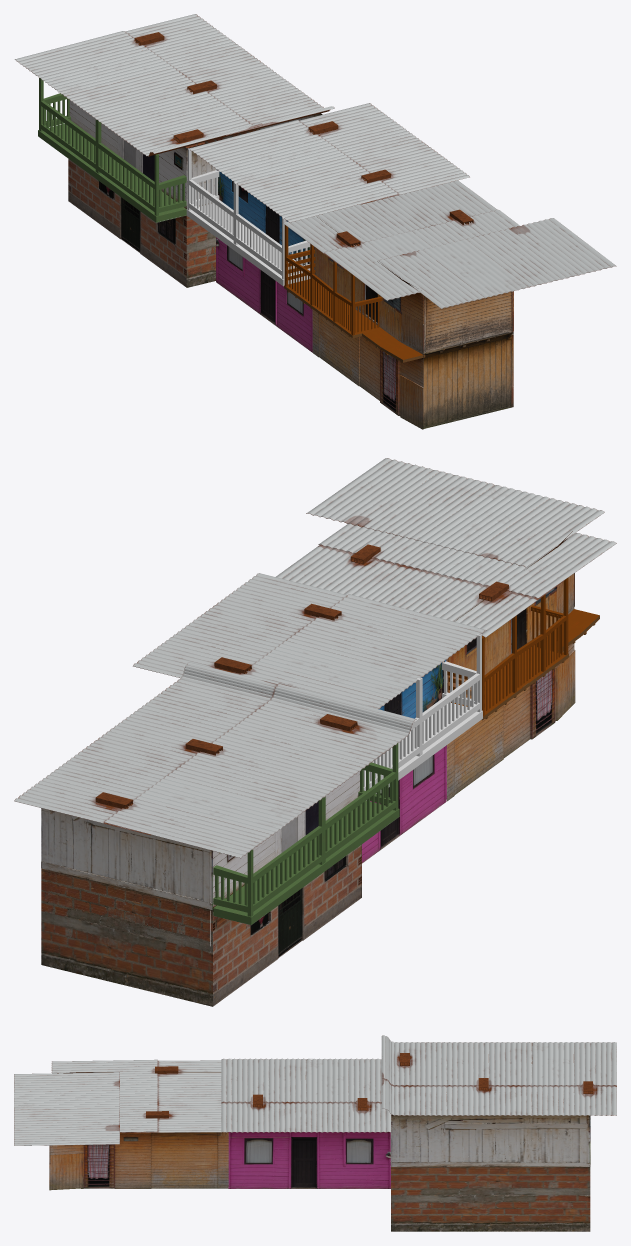
The model's file is casa_izquierda_08-10.fbx.
3 renders of one model, top to bottom at view 1: azimuth 30°, elevation 25°; view 2: azimuth 150°, elevation 25°; view 3: azimuth 270°, elevation 25°, orthographic. The views are drawn at different scales.
Parts seen in each view (by area): view 1: Techo 08, Techo 09.001, Techo 09, casa_izquierda_10B.001, casa_izquierda_10A, casa_izquierda_08A.001, casa_izquierda_08A.002, casa_izquierda_09.001, casa_izquierda_08A.003, balcon casa izquierda 10, casa_izquierda_08B.002; view 2: Techo 08, Techo 09.001, casa_izquierda_08B.001, Techo 09, casa_izquierda_08A.001, casa_izquierda_10A, casa_izquierda_08A.002, balcon casa izquierda 10, casa_izquierda_08A.003, casa_izquierda_09.001; view 3: casa_izquierda_08B.003, Techo 08, Techo 09.001, Techo 09, casa_izquierda_10A, casa_izquierda_09.001.
Part boxes in pixels (x1=…): Techo 08: x1=14, y1=14, x2=334, y2=156; Techo 09.001: x1=283, y1=180, x2=616, y2=308; Techo 09: x1=189, y1=103, x2=469, y2=222; casa_izquierda_10B.001: x1=423, y1=291, x2=513, y2=428; casa_izquierda_10A: x1=312, y1=217, x2=423, y2=429; casa_izquierda_08A.001: x1=68, y1=100, x2=186, y2=287; casa_izquierda_08A.002: x1=38, y1=78, x2=186, y2=222; casa_izquierda_09.001: x1=216, y1=169, x2=312, y2=352; casa_izquierda_08A.003: x1=186, y1=148, x2=310, y2=286; balcon casa izquierda 10: x1=284, y1=225, x2=425, y2=362; casa_izquierda_08B.002: x1=186, y1=141, x2=216, y2=287; Techo 08: x1=14, y1=662, x2=416, y2=858; Techo 09.001: x1=276, y1=458, x2=616, y2=637; casa_izquierda_08B.001: x1=41, y1=808, x2=212, y2=1006; Techo 09: x1=133, y1=573, x2=486, y2=708; casa_izquierda_08A.001: x1=213, y1=771, x2=361, y2=1006; casa_izquierda_10A: x1=446, y1=531, x2=575, y2=801; casa_izquierda_08A.002: x1=212, y1=743, x2=399, y2=925; balcon casa izquierda 10: x1=447, y1=578, x2=599, y2=720; casa_izquierda_08A.003: x1=363, y1=634, x2=482, y2=800; casa_izquierda_09.001: x1=362, y1=660, x2=446, y2=863; casa_izquierda_08B.003: x1=391, y1=1114, x2=590, y2=1231; Techo 08: x1=381, y1=1035, x2=616, y2=1115; Techo 09.001: x1=14, y1=1059, x2=224, y2=1145; Techo 09: x1=221, y1=1058, x2=391, y2=1132; casa_izquierda_10A: x1=49, y1=1072, x2=228, y2=1190; casa_izquierda_09.001: x1=228, y1=1132, x2=390, y2=1188.
Size of the model in its own units: 1160 by 690 by 2952.
